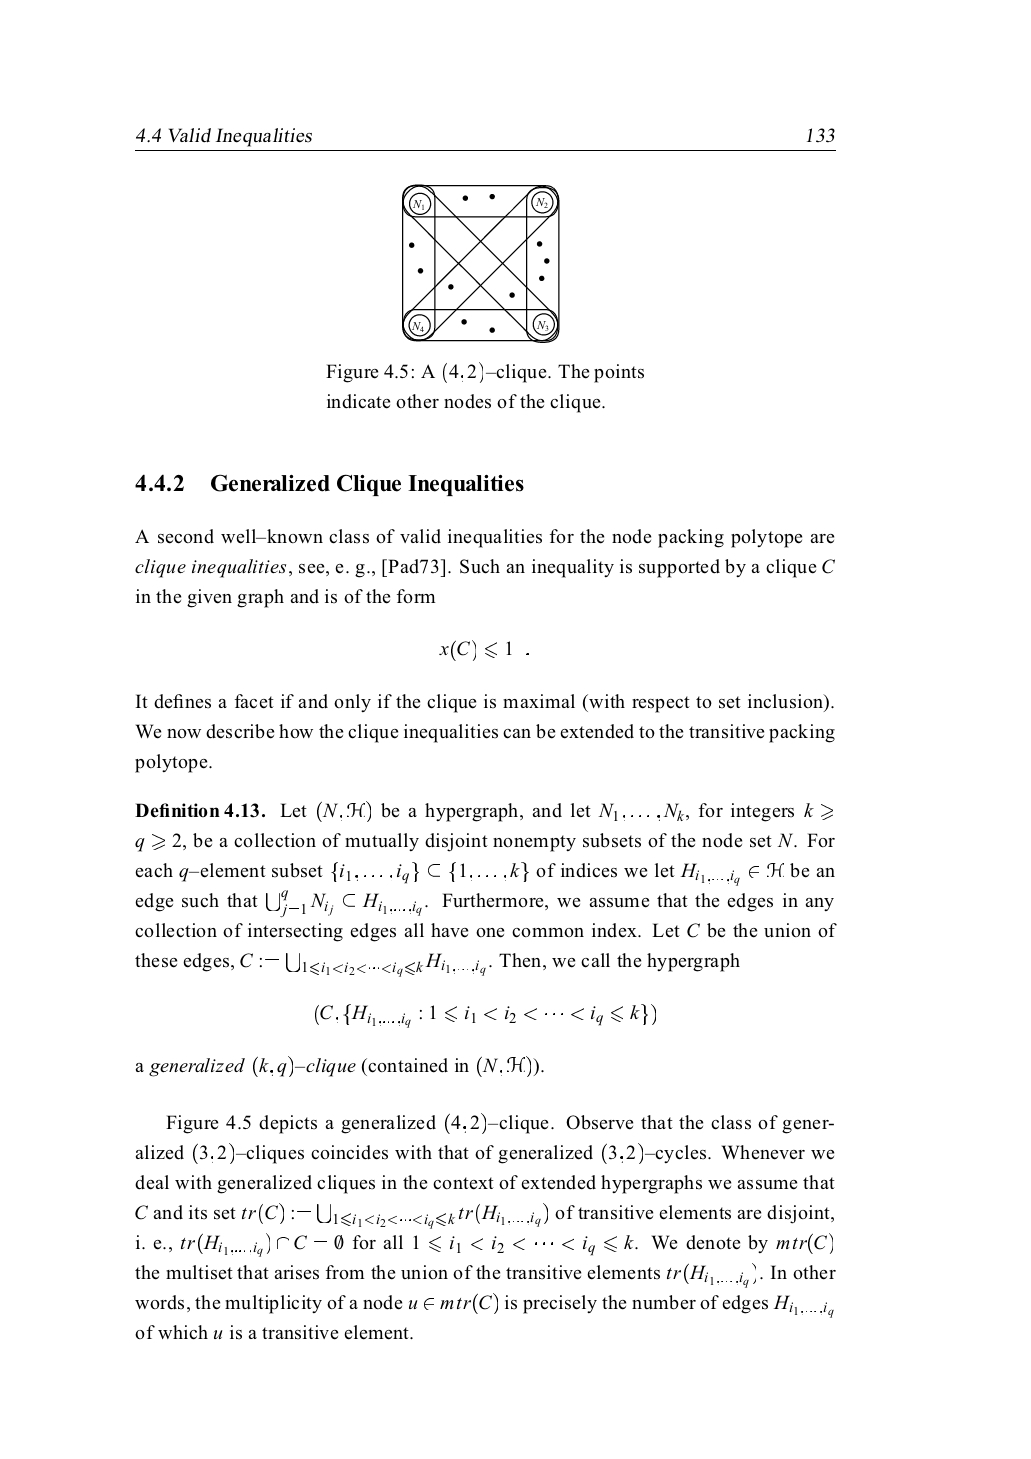figure: (402, 182, 559, 344)
formula: (315, 1002, 655, 1028), (439, 639, 528, 661)
